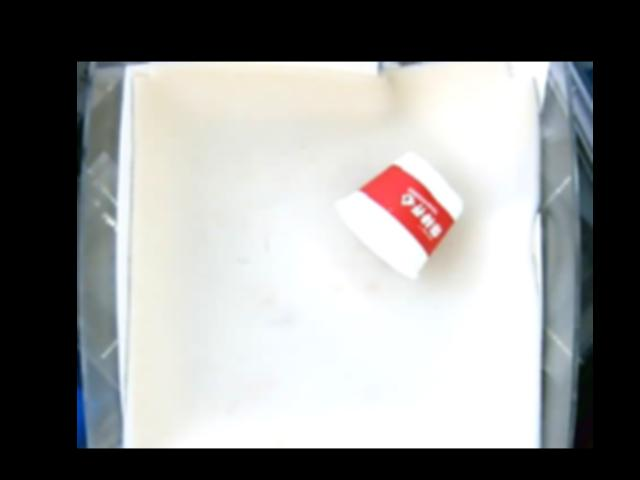Cup: (334, 152, 466, 275)
